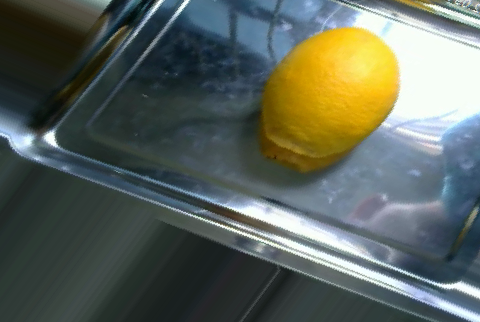Orange: (261, 27, 400, 157)
